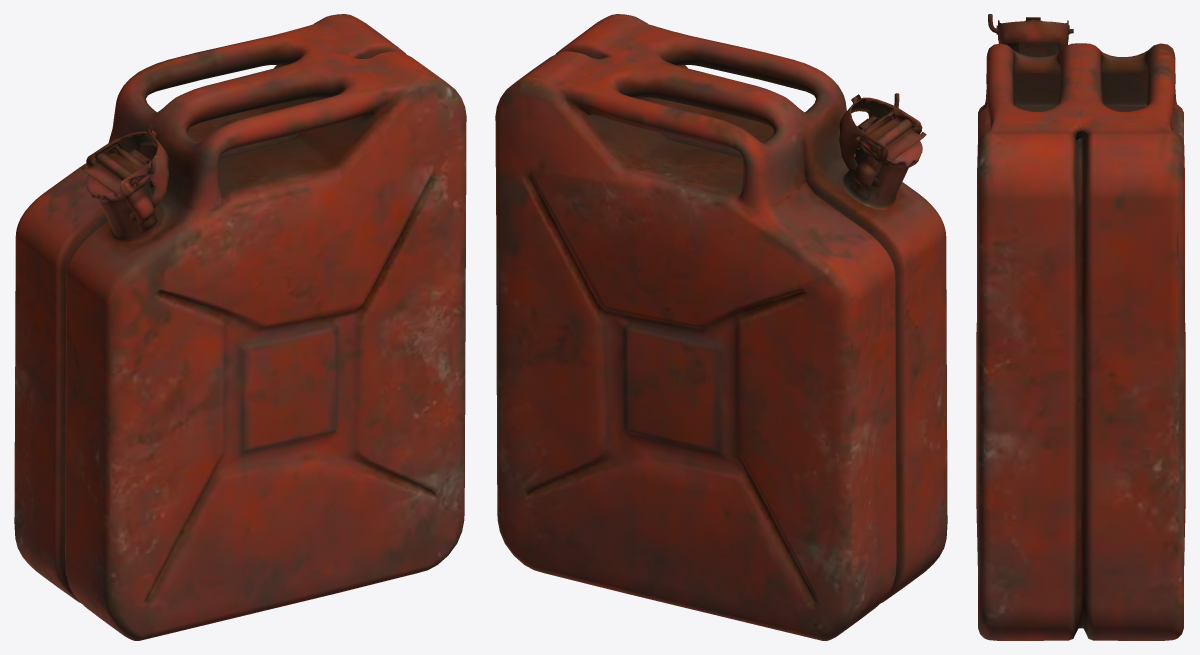
File: metal_jerrycan.glb
3 renders of one model, left to right at view 1: azimuth 30°, elevation 25°; view 2: azimuth 150°, elevation 25°; view 3: azimuth 270°, elevation 25°, orthographic. The views are drawn at different scales.
Parts seen in each view (by area): view 1: metal_jerrycan; view 2: metal_jerrycan; view 3: metal_jerrycan.
Boxes of the visible parts, left/top/right/bottom form: metal_jerrycan: left=14, top=14, right=466, bottom=640; metal_jerrycan: left=495, top=14, right=947, bottom=640; metal_jerrycan: left=976, top=14, right=1185, bottom=640.
Bounding box in the file's own units: 0.3503 × 0.4552 × 0.1718.
1 material, 1 textured.
